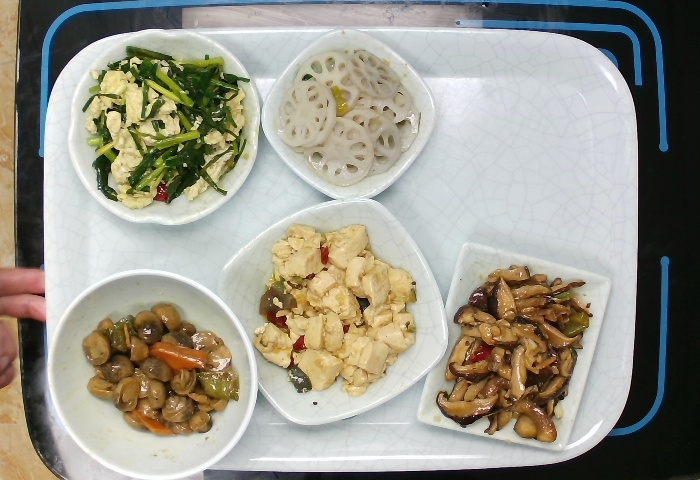JYsf-Ao_Yuan_Wan: (65, 26, 265, 226)
JYsf-Fan_Wan: (44, 260, 262, 480)
JYsf-Si_Fang_Die: (259, 25, 439, 209)
WCQzf-Da_Si_Fang_Die: (219, 193, 453, 434)
WCQzf-Ru_Ci_Si_Fang_Die: (412, 239, 614, 454)
